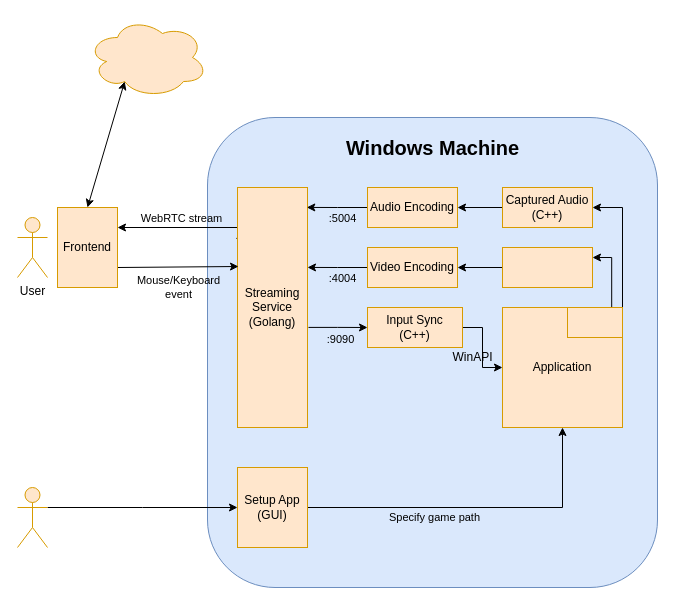
The diagram is 675 pixels wide and 605 high, and some of its shapes have lost their labels. Each missing label, with the centre of its shape:
Captured Video (C++): point 547,267
Discovery: point 147,57
GPU: point 594,322
Host: point 32,517
